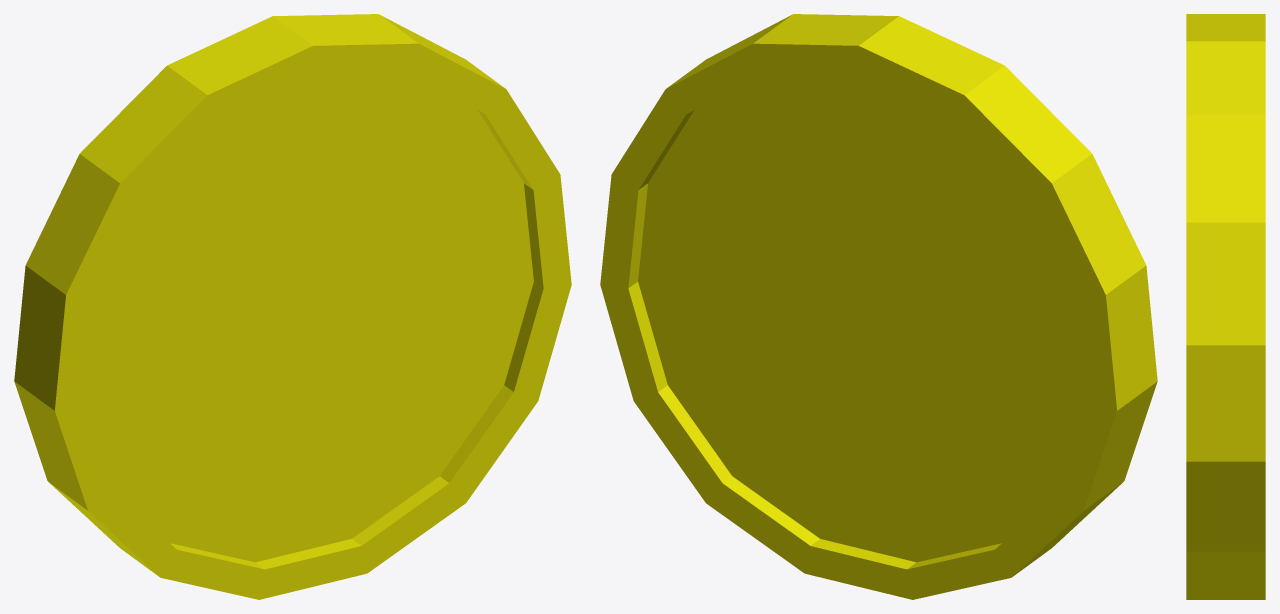
File: Moeda.fbx
3 views of the same model, side by side, from view 1: azimuth 30°, elevation 25°; view 2: azimuth 150°, elevation 25°; view 3: azimuth 270°, elevation 25° (orthographic).
Parts seen in each view (by area): view 1: moeda; view 2: moeda; view 3: moeda.
Part boxes in pixels (bbox=[...]): moeda: bbox=[14, 14, 571, 599]; moeda: bbox=[600, 14, 1157, 599]; moeda: bbox=[1186, 14, 1265, 599].
Size of the model in its own units: 50 by 50 by 6.79.
